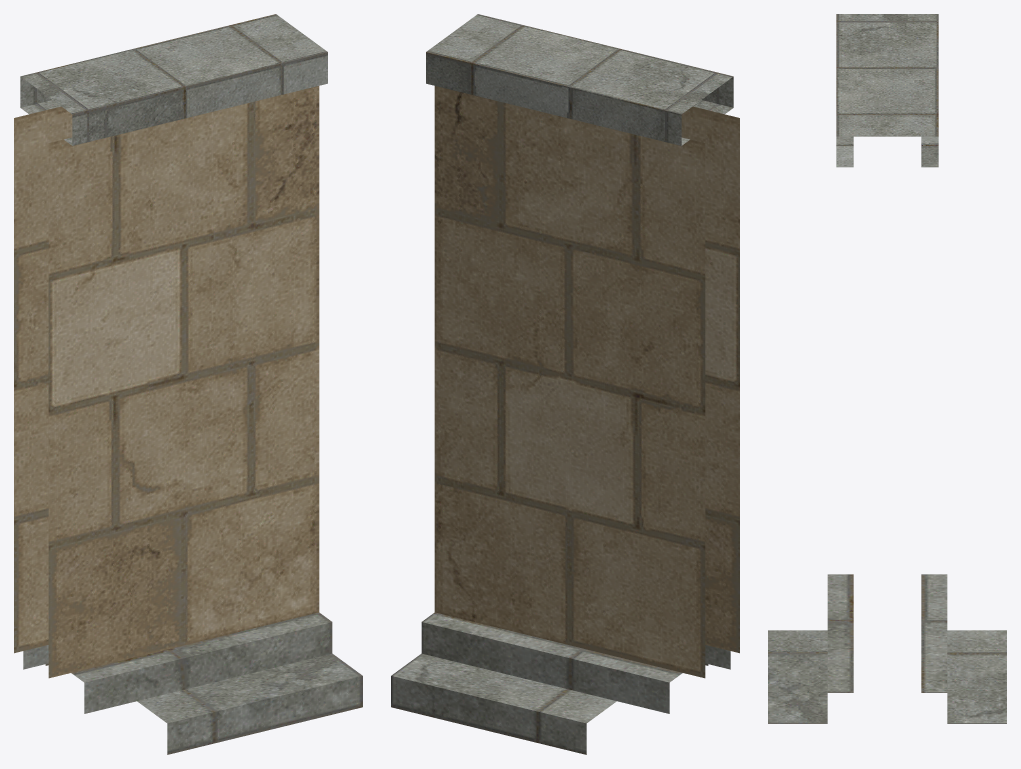
The model's file is wall_fill_1U.fbx.
The picture shows the model from 3 angles, left to right: view 1: azimuth 30°, elevation 25°; view 2: azimuth 150°, elevation 25°; view 3: azimuth 270°, elevation 25°; orthographic projection.
Parts seen in each view (by area): view 1: wall_fill_1U; view 2: wall_fill_1U; view 3: wall_fill_1U.
Part boxes in pixels (left/top/right/bottom): wall_fill_1U: left=14, top=14, right=362, bottom=754; wall_fill_1U: left=391, top=14, right=739, bottom=754; wall_fill_1U: left=768, top=14, right=1006, bottom=723.
Bounding box in the file's own units: 90 × 200 × 70.
